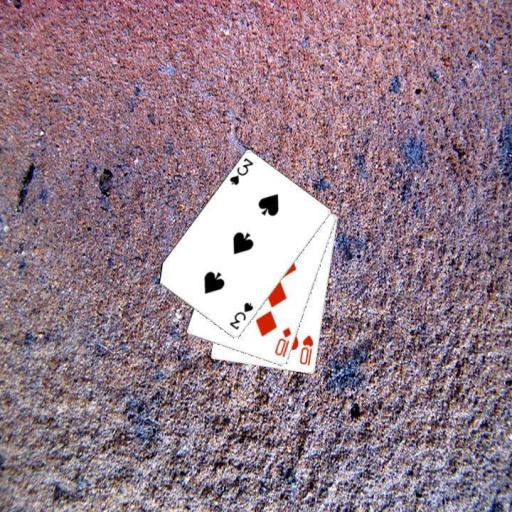card-corner: (226, 300, 255, 332), (226, 155, 255, 187), (272, 324, 293, 359), (297, 332, 315, 367)
